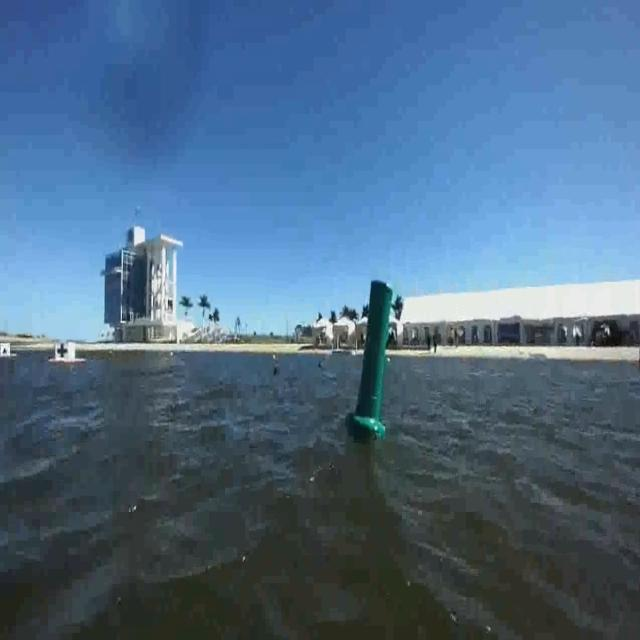green-column-buoy: (348, 277, 393, 439)
